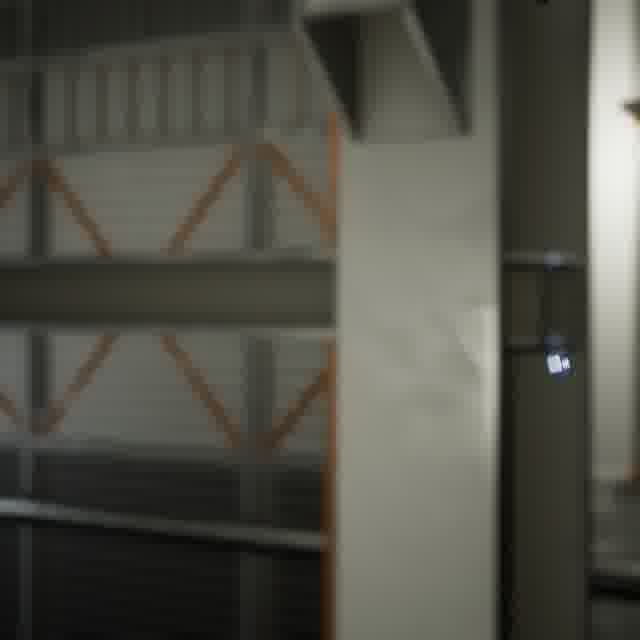nut: (542, 342, 576, 385)
